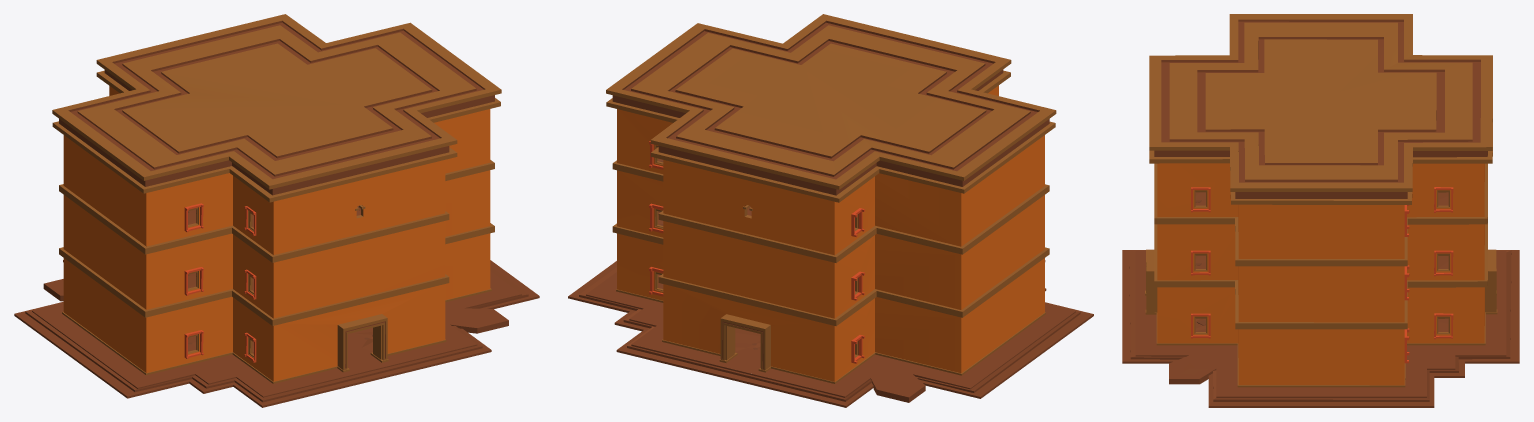
The model's file is Lalibela Building.fbx.
3 views of the same model, side by side, from view 1: azimuth 30°, elevation 25°; view 2: azimuth 150°, elevation 25°; view 3: azimuth 270°, elevation 25° (orthographic).
Visible parts, largest first — view 1: Lalibela_Building_New, Lalibela_Ground_Steps; view 2: Lalibela_Building_New, Lalibela_Ground_Steps; view 3: Lalibela_Building_New, Lalibela_Ground_Steps.
Boxes of the visible parts, left/top/right/bottom form: Lalibela_Building_New: left=32, top=14, right=521, bottom=396; Lalibela_Ground_Steps: left=14, top=260, right=539, bottom=407; Lalibela_Building_New: left=586, top=14, right=1075, bottom=402; Lalibela_Ground_Steps: left=568, top=260, right=1093, bottom=407; Lalibela_Building_New: left=1135, top=14, right=1506, bottom=396; Lalibela_Ground_Steps: left=1122, top=250, right=1519, bottom=407.
Bounding box in the file's own units: 3644 × 1759 × 3050.
